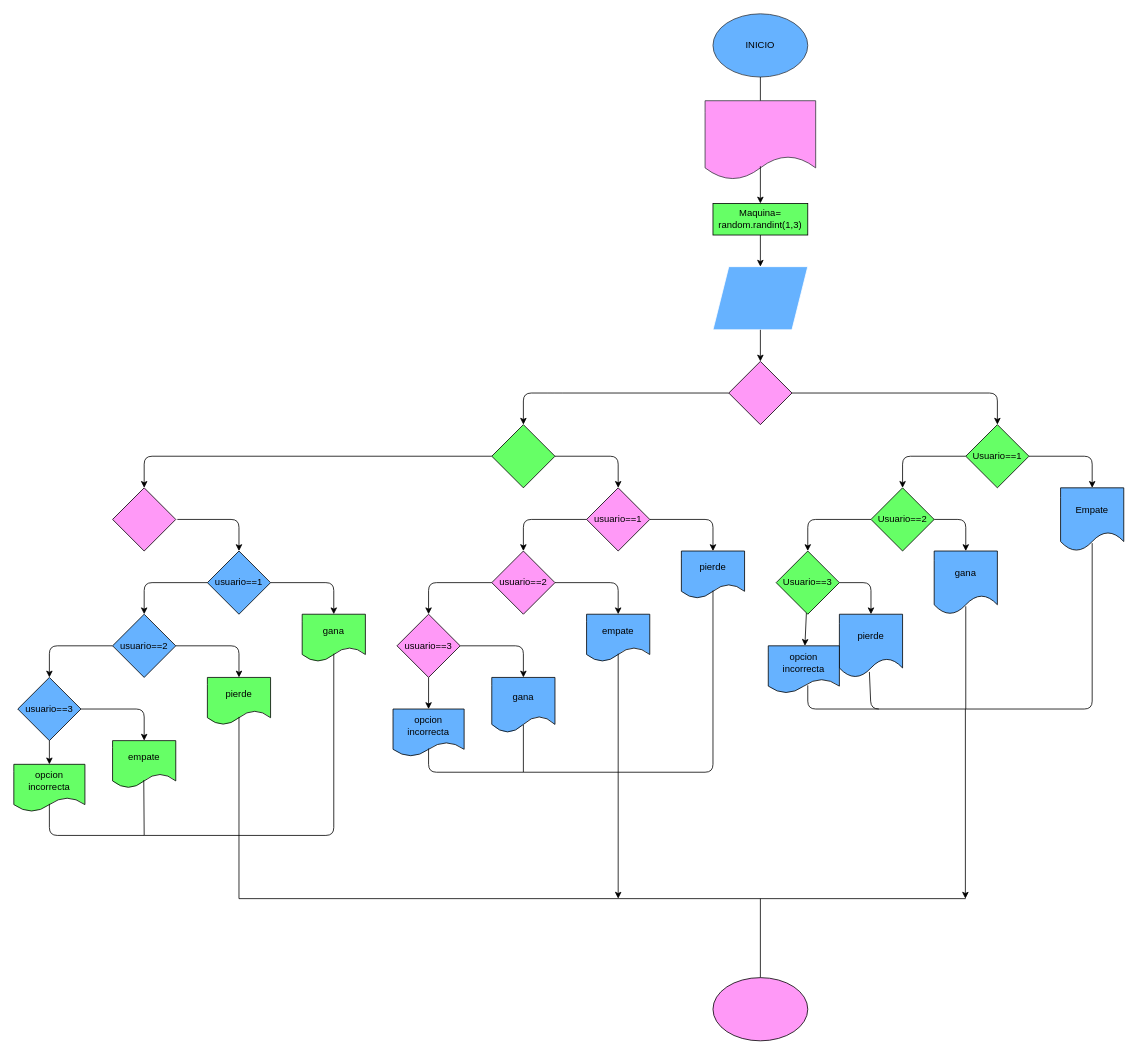
Image size: 1138x1055. Some labels were removed from this diagram. The shapes that lost their labels are listed below. From the top down, each one's centre as x and y in pixels, then its label:
the point at 760,140: 1-piedra 2-papel 3-tijera soreth
the point at 760,298: Usuario
the point at 760,393: Maquina==1
the point at 523,456: Maquina==2
the point at 144,519: Maquina==3
the point at 760,1009: final
